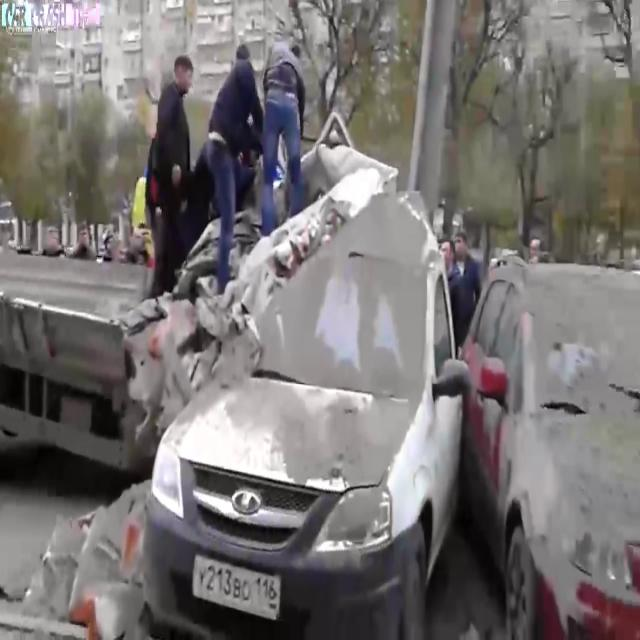Accident: (94, 25, 460, 616), (487, 246, 640, 640)
